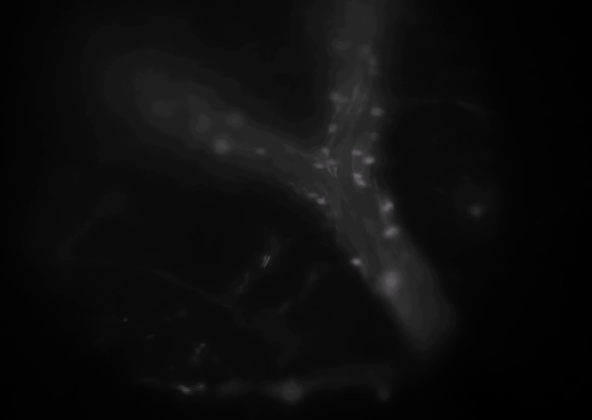cell: (370, 105, 384, 119), (350, 145, 364, 159), (362, 154, 376, 168), (317, 143, 331, 157), (311, 158, 325, 172), (323, 154, 337, 168), (329, 90, 343, 104), (348, 169, 362, 183), (337, 93, 351, 107), (354, 178, 368, 192), (348, 255, 362, 269), (384, 272, 398, 286), (382, 226, 396, 240), (383, 199, 397, 213), (387, 223, 401, 237), (377, 201, 391, 215), (315, 195, 329, 209), (303, 188, 317, 202), (254, 144, 268, 158), (212, 139, 226, 153), (359, 41, 373, 55), (366, 54, 380, 68), (333, 40, 347, 54), (368, 129, 382, 143), (229, 114, 243, 128), (324, 121, 338, 135)
